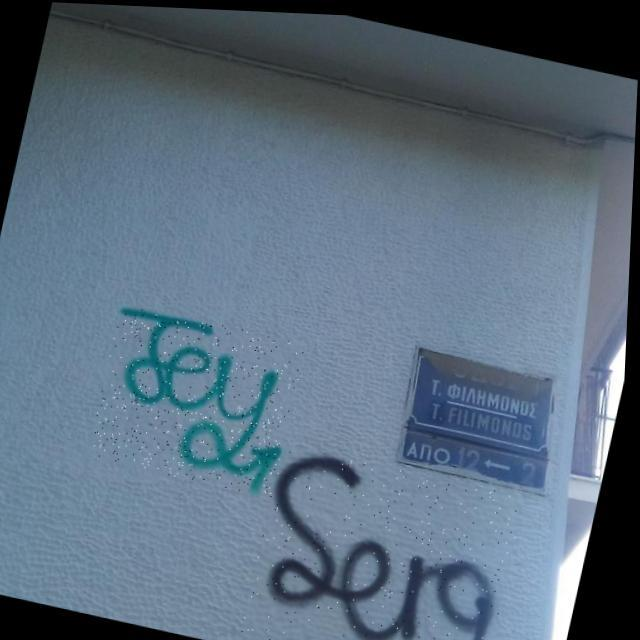-: (243, 438, 530, 640), (90, 300, 310, 496)
